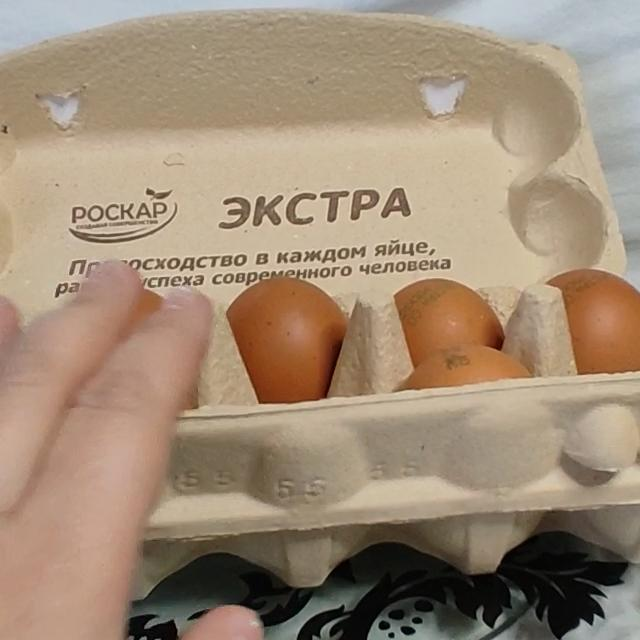egg: (0, 0, 640, 567)
